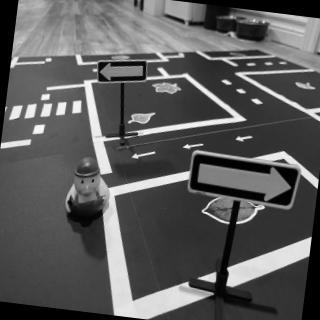duck_specialty: (66, 157, 115, 219)
road_crosswalk: (5, 89, 87, 134)
road_oneway: (129, 145, 161, 166), (182, 138, 208, 158), (233, 130, 257, 148)
sign_oneway_left: (97, 54, 150, 89)
sign_oneway_right: (188, 152, 304, 214)
